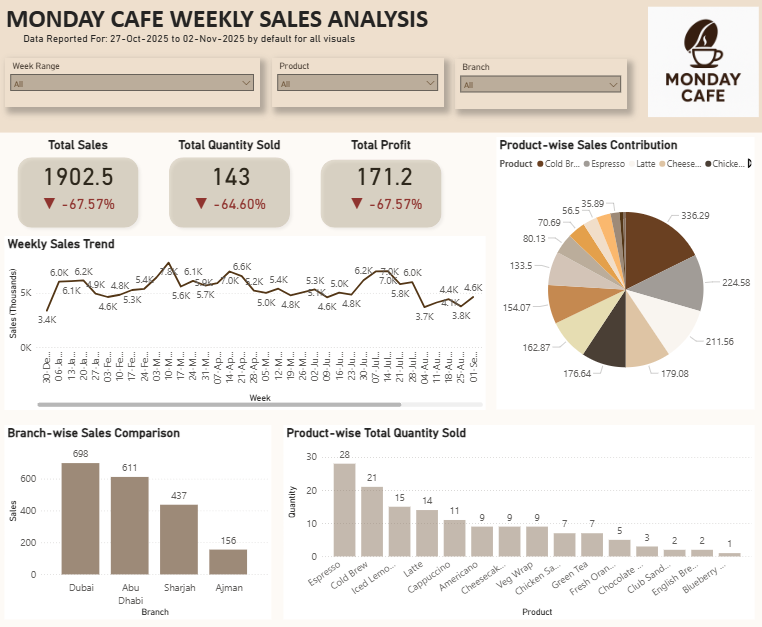

This screenshot's page, from the dashboard's own definition file:
{"tool":"powerbi","page":{"name":"Weekly Analysis","canvas":[1280,1050],"ordinal":0},"visuals":[{"type":"textbox","box":[0,0,1279.4,223],"z":0},{"type":"pieChart","title":"Product-wise Sales Contribution","fields":{"Category":["Sales.Product"],"Y":["Sales.Measure_Total_Sales"]},"box":[833.4,229.5,430,454.2],"z":1000},{"type":"columnChart","title":"Branch-wise Sales Comparison","fields":{"Category":["Sales.Branch"],"Y":["Sales.Measure_Total_Sales"]},"box":[12.1,710.2,444.5,323.7],"z":2000},{"type":"columnChart","title":"Product-wise Total Quantity Sold","fields":{"Y":["Sales.Measure_Total_Quantity"],"Category":["Sales.Product"]},"box":[478.3,710.2,785.1,323.7],"z":3000},{"type":"lineChart","title":"Weekly Sales Trend","fields":{"Y":["Sum(Sales.TotalAmount)"],"Category":["Date Table 2025.Week Range"]},"box":[12.1,393.8,802,289.9],"z":4000},{"type":"image","box":[1074.6,8.3,205,194.6],"z":5000},{"type":"card","fields":{"Values":["Sales.Total Quantity"]},"box":[279.9,229.8,219.5,122.2],"z":5000,"group":"g4"},{"type":"card","fields":{"Values":["Sales.Total Sales"]},"box":[25,230,220,121.7],"z":5000,"group":"g1"},{"type":"slicer","fields":{"Values":["Sales.Product"]},"box":[457.3,98.3,287.2,83.2],"z":6000},{"type":"card","fields":{"Values":["Sales.Measure_Total_Profit"]},"box":[534.2,229.8,219.5,122.2],"z":6000,"group":"g3"},{"type":"slicer","fields":{"Values":["Sales.Branch"]},"box":[763.5,100.2,287.2,83.2],"z":7000},{"type":"slicer","fields":{"Values":["Date Table 2025.Week Range"]},"box":[13.2,98.3,425.2,83.2],"z":8000},{"type":"group","id":"g1","title":"Group 1","box":[25,230,220,169.8],"z":9000},{"type":"shape","title":"Total Sales","box":[25,230,220,160],"z":10000},{"type":"group","id":"g2","title":"Group 2","box":[279.9,229.8,219.5,169.8],"z":11000},{"type":"card","fields":{"Values":["Sales.Sales Card Trend"]},"box":[62.3,279.7,144.9,120.1],"z":11001,"group":"g1"},{"type":"group","id":"g3","title":"Group 3","box":[534.2,229.8,219.5,169.8],"z":12000},{"type":"card","fields":{"Values":["Sales.Quantity Card Trend"]},"box":[315.1,279.5,144.9,120.1],"z":12000,"group":"g4"},{"type":"shape","title":"Total Profit","box":[530.1,230,220,160],"z":13000},{"type":"card","fields":{"Values":["Sales.Profit Card Trend"]},"box":[573.5,279.5,144.9,120.1],"z":13002,"group":"g3"},{"type":"group","id":"g4","title":"Group 4","box":[279.9,229.8,219.5,169.8],"z":13004,"group":"g2"},{"type":"shape","title":"Total Quantity Sold","box":[277.5,230,220,160],"z":14000},{"type":"card","fields":{"Values":["Sales.Data Reported default"]},"box":[0,24.2,640.2,82.1],"z":15000}]}

Visuals, with their boxes in screenshot pixels (x1, y1, x2, y2), scaled from the page's 1280x1050 canvas onto the 762x627 screenshot:
textbox: Rect(0, 0, 761, 133)
"Product-wise Sales Contribution" pieChart: Rect(496, 137, 752, 408)
"Branch-wise Sales Comparison" columnChart: Rect(7, 424, 272, 617)
"Product-wise Total Quantity Sold" columnChart: Rect(285, 424, 752, 617)
"Weekly Sales Trend" lineChart: Rect(7, 235, 485, 408)
image: Rect(640, 5, 761, 121)
card - Sales.Total Quantity: Rect(167, 137, 297, 210)
card - Sales.Total Sales: Rect(15, 137, 146, 210)
slicer - Sales.Product: Rect(272, 59, 443, 108)
card - Sales.Measure_Total_Profit: Rect(318, 137, 449, 210)
slicer - Sales.Branch: Rect(455, 60, 625, 110)
slicer - Date Table 2025.Week Range: Rect(8, 59, 261, 108)
"Group 1" group: Rect(15, 137, 146, 239)
"Total Sales" shape: Rect(15, 137, 146, 233)
"Group 2" group: Rect(167, 137, 297, 239)
card - Sales.Sales Card Trend: Rect(37, 167, 123, 239)
"Group 3" group: Rect(318, 137, 449, 239)
card - Sales.Quantity Card Trend: Rect(188, 167, 274, 239)
"Total Profit" shape: Rect(316, 137, 447, 233)
card - Sales.Profit Card Trend: Rect(341, 167, 428, 239)
"Group 4" group: Rect(167, 137, 297, 239)
"Total Quantity Sold" shape: Rect(165, 137, 296, 233)
card - Sales.Data Reported default: Rect(0, 14, 381, 63)
